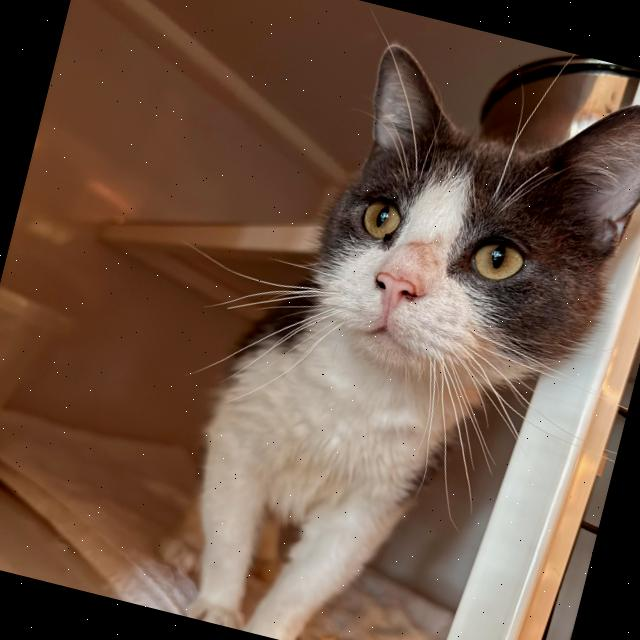manx_cat: (233, 16, 640, 448)
